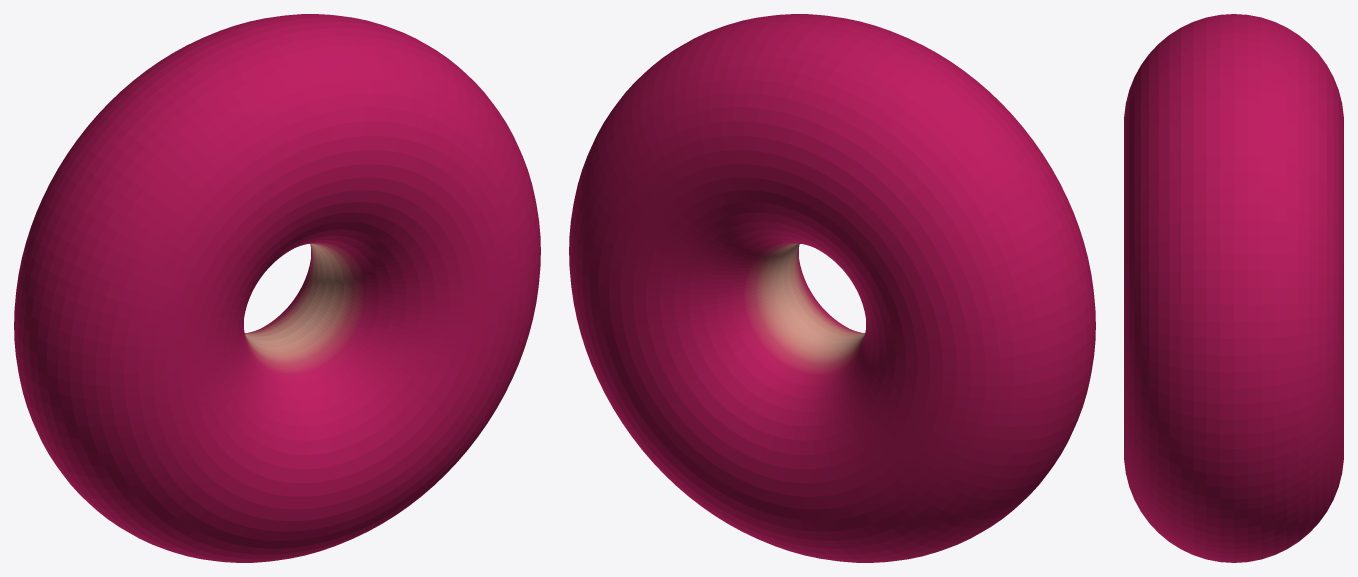
3 views of the same model, side by side, from view 1: azimuth 30°, elevation 25°; view 2: azimuth 150°, elevation 25°; view 3: azimuth 270°, elevation 25° (orthographic). The views are drawn at different scales.
Parts seen in each view (by area): view 1: world; view 2: world; view 3: world.
Part boxes in pixels (bbox=[...]): world: bbox=[14, 14, 540, 562]; world: bbox=[569, 14, 1095, 562]; world: bbox=[1124, 14, 1343, 562].
Size of the model in its own units: 22.27 by 22.27 by 8.92.
